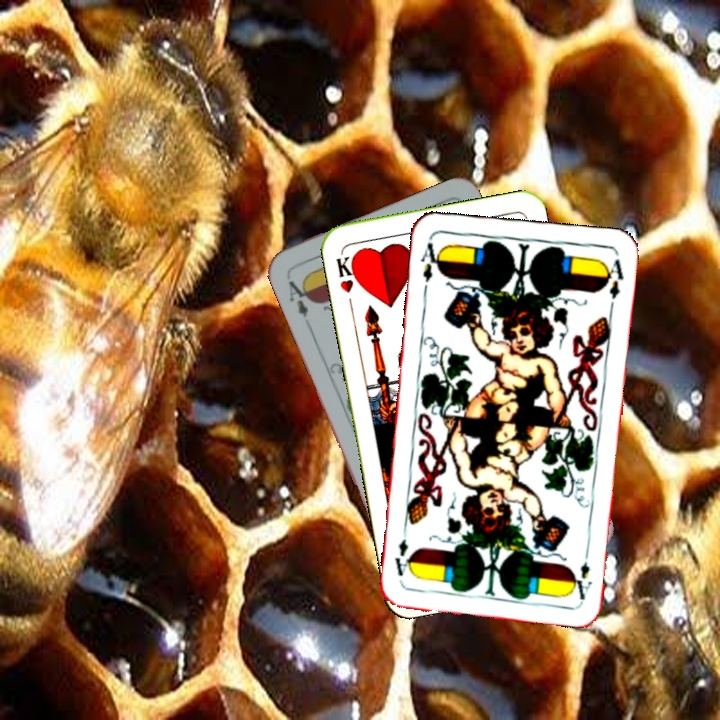EA: (416, 239, 444, 296), (284, 275, 315, 320), (573, 542, 595, 601)
HK: (332, 249, 362, 296)
